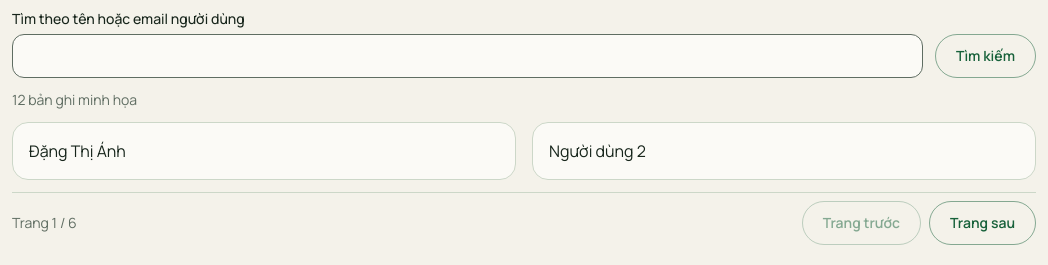
Test case: Admin record list › paginates twelve records without duplicates and disables boundary controls
Expected: the number of list items is 2, [12,122,516,180]; [532,122,1036,180]
Expected: the button "Trang trước" is disabled, [802,201,921,245]
What coordinates should you click on to do the following:
click the button "Trang sau"
I would click on:
 (983, 223)
Its box is [929,201,1036,245].
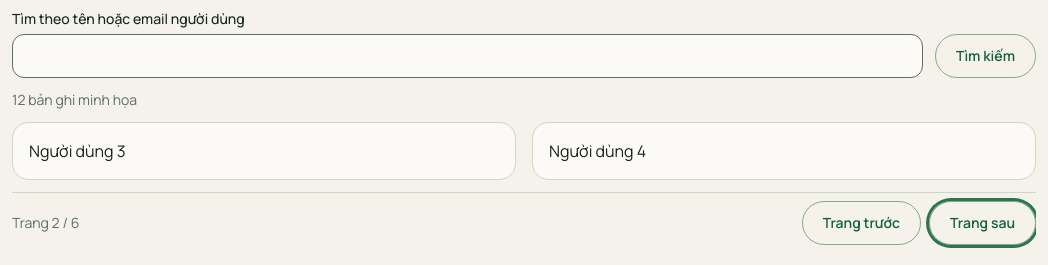
Expected: the number of list items is 2, [12,122,516,180]; [532,122,1036,180]
Result: the text "Người dùng 3" is shown at [29,140,126,162]
Result: the text "Đặng Thị Ánh" is gone
What coordinates should you click on to do the following:
click the button "Trang sau"
I would click on:
 (983, 223)
Its box is [929,201,1036,245].
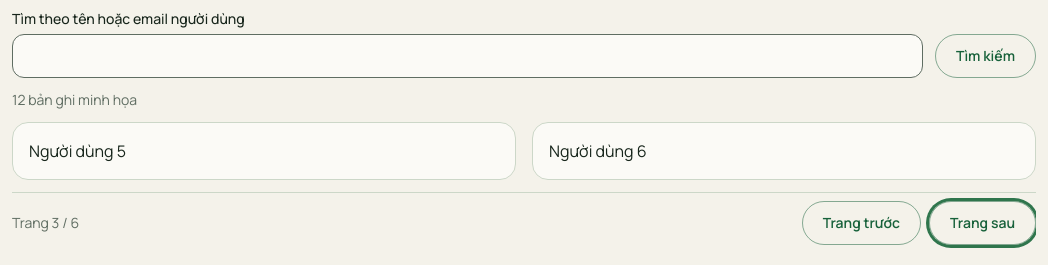
What coordinates should you click on to do the following:
click the button "Trang sau"
I would click on:
 (983, 223)
Its box is [929,201,1036,245].
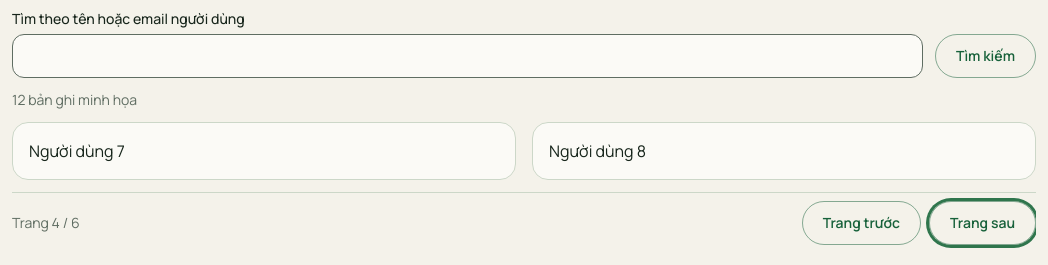
What coordinates should you click on to do the following:
click the button "Trang sau"
I would click on:
 (983, 223)
Its box is [929,201,1036,245].
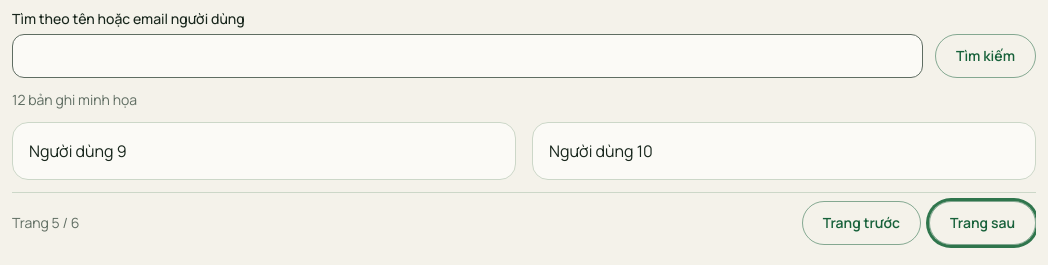
What coordinates should you click on to do the following:
click the button "Trang sau"
I would click on:
 (983, 223)
Its box is [929,201,1036,245].
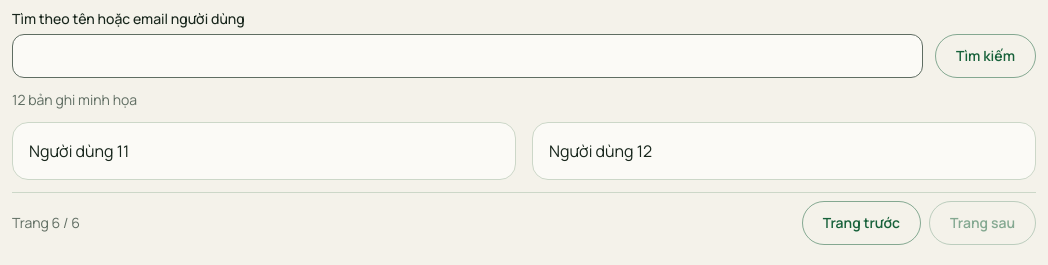
Result: the text "Người dùng 12" is shown at [549,140,652,162]
Result: the button "Trang sau" is disabled at [929,201,1036,245]
What coordinates should you click on to do the following:
click the button "Trang trước"
I would click on:
 (861, 223)
Its box is [802,201,921,245].
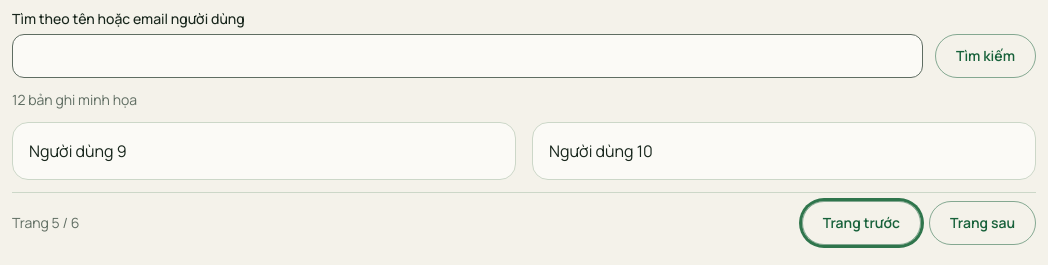
Result: the text "Người dùng 9" is shown at [29,140,127,162]
